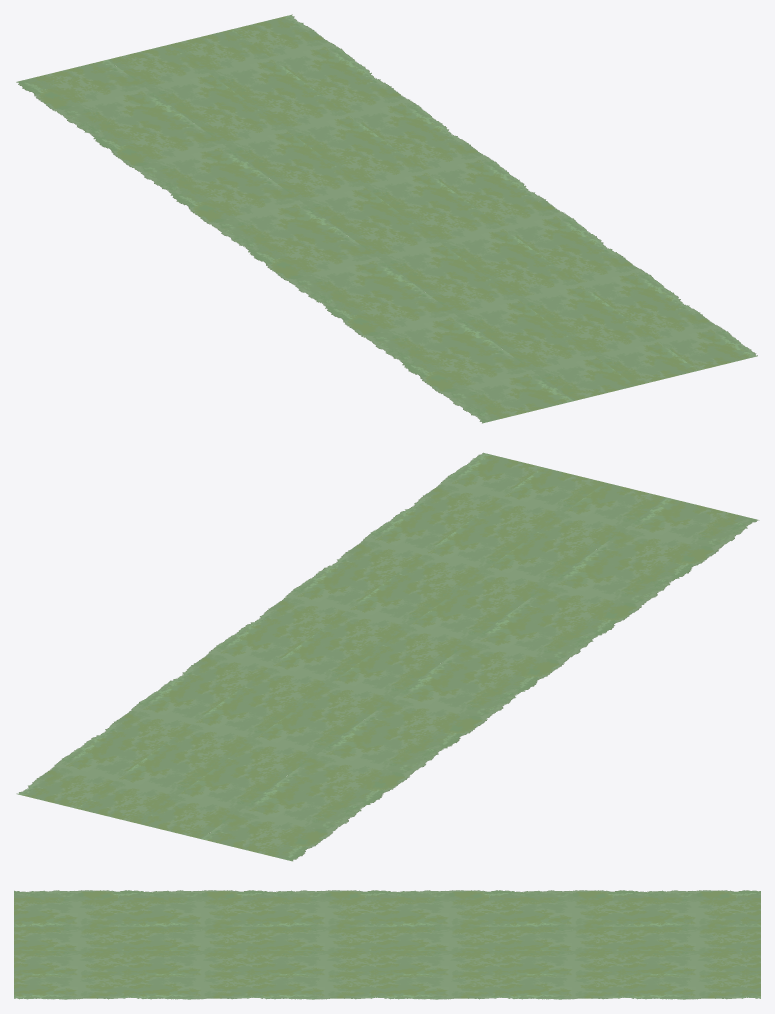
Rendered from Mesh_Adventure_Jungle_Ground.fbx.
The picture shows the model from 3 angles, top to bottom: view 1: azimuth 30°, elevation 25°; view 2: azimuth 150°, elevation 25°; view 3: azimuth 270°, elevation 25°; orthographic projection. The views are drawn at different scales.
Parts seen in each view (by area): view 1: Mesh_Adventure_Jungle_Ground; view 2: Mesh_Adventure_Jungle_Ground; view 3: Mesh_Adventure_Jungle_Ground.
Part boxes in pixels (x1=…): Mesh_Adventure_Jungle_Ground: x1=16, y1=14, x2=757, y2=423; Mesh_Adventure_Jungle_Ground: x1=16, y1=452, x2=759, y2=861; Mesh_Adventure_Jungle_Ground: x1=14, y1=890, x2=760, y2=999.
Bounding box in the file's own units: 1215 × 0.000155 × 3500.
Materials: 1 (1 with a texture image).
